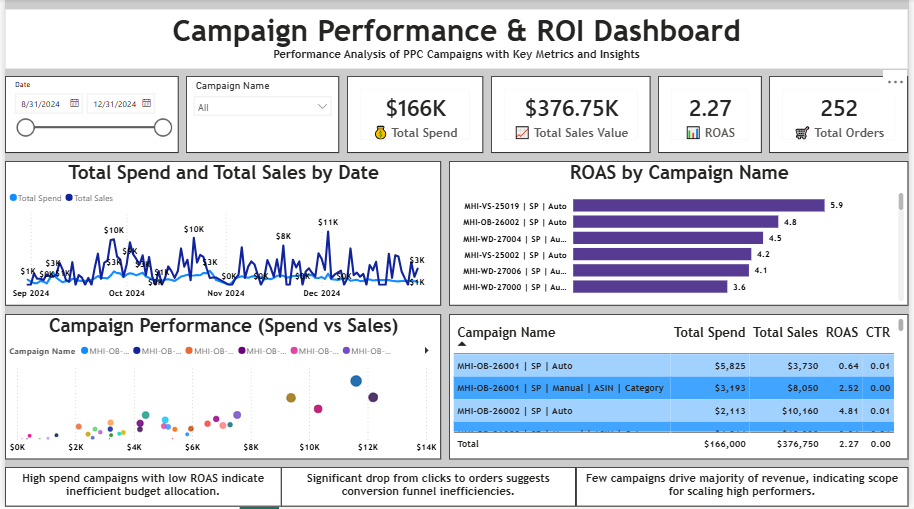

The dashboard page shown, as its layout file describes it:
{"tool":"powerbi","page":{"name":"Campaign Performance & ROI Dashboard","canvas":[1280,720],"ordinal":0},"visuals":[{"type":"cardVisual","fields":{"Data":["Sheet1.Total Spend"]},"box":[485.3,109.4,193,109.4],"z":0},{"type":"cardVisual","fields":{"Data":["Sheet1.Total Sales Value"]},"box":[688.3,109.4,226.1,109.4],"z":1000},{"type":"cardVisual","fields":{"Data":["Sheet1.ROAS"]},"box":[925.9,109.4,146.9,109.4],"z":2000},{"type":"cardVisual","fields":{"Data":["Sheet1.Total Orders"]},"box":[1082.9,109.4,197.3,109.4],"z":3000},{"type":"lineChart","fields":{"Y":["Sheet1.Total Spend","Sum(Sheet1.Total Sales)"],"Category":["Sheet1.Date"]},"box":[0,230.3,617.8,204.5],"z":4000},{"type":"barChart","fields":{"Category":["Sheet1.Campaign Name"],"Y":["Sheet1.ROAS"]},"box":[629.3,230.3,650.7,204.5],"z":5000},{"type":"scatterChart","title":"Campaign Performance (Spend vs Sales) ","fields":{"Size":["Sheet1.Total Orders"],"Series":["Sheet1.Campaign Name"],"X":["Sum(Sheet1.Spend)"],"Y":["Sum(Sheet1.Total Sales)"]},"box":[0,446.2,617.8,205.9],"z":6000},{"type":"tableEx","fields":{"Values":["Sheet1.Campaign Name","Sheet1.Total Spend","Sheet1.Total Sales Value","Sheet1.ROAS","Sheet1.CTR"]},"box":[629.3,446.2,650.7,205.9],"z":7000},{"type":"slicer","fields":{"Values":["Sheet1.Campaign Name"]},"box":[256.3,109.4,217.4,109.4],"z":8000},{"type":"slicer","fields":{"Values":["Sheet1.Date"]},"box":[0,109.4,246.2,109.4],"z":9000},{"type":"textbox","box":[0,663.8,391.7,56.2],"z":10000},{"type":"textbox","box":[391.7,663.8,417.6,56.2],"z":11000},{"type":"textbox","box":[809.3,663.8,470.9,56.2],"z":12000},{"type":"textbox","box":[0,14.4,1280.2,85],"z":13000}]}

Visuals, with their boxes in screenshot pixels (x1, y1, x2, y2), scaled from the page's 1280x720 canvas onto the 914x509 screenshot:
cardVisual - Sheet1.Total Spend: <box>347,77,484,155</box>
cardVisual - Sheet1.Total Sales Value: <box>491,77,653,155</box>
cardVisual - Sheet1.ROAS: <box>661,77,766,155</box>
cardVisual - Sheet1.Total Orders: <box>773,77,913,155</box>
lineChart - Sheet1.Total Spend x Sum(Sheet1.Total Sales): <box>0,163,441,307</box>
barChart - Sheet1.Campaign Name x Sheet1.ROAS: <box>449,163,913,307</box>
"Campaign Performance (Spend vs Sales) " scatterChart: <box>0,315,441,461</box>
tableEx - Sheet1.Campaign Name x Sheet1.Total Spend: <box>449,315,913,461</box>
slicer - Sheet1.Campaign Name: <box>183,77,338,155</box>
slicer - Sheet1.Date: <box>0,77,176,155</box>
textbox: <box>0,469,280,508</box>
textbox: <box>280,469,578,508</box>
textbox: <box>578,469,913,508</box>
textbox: <box>0,10,913,70</box>
